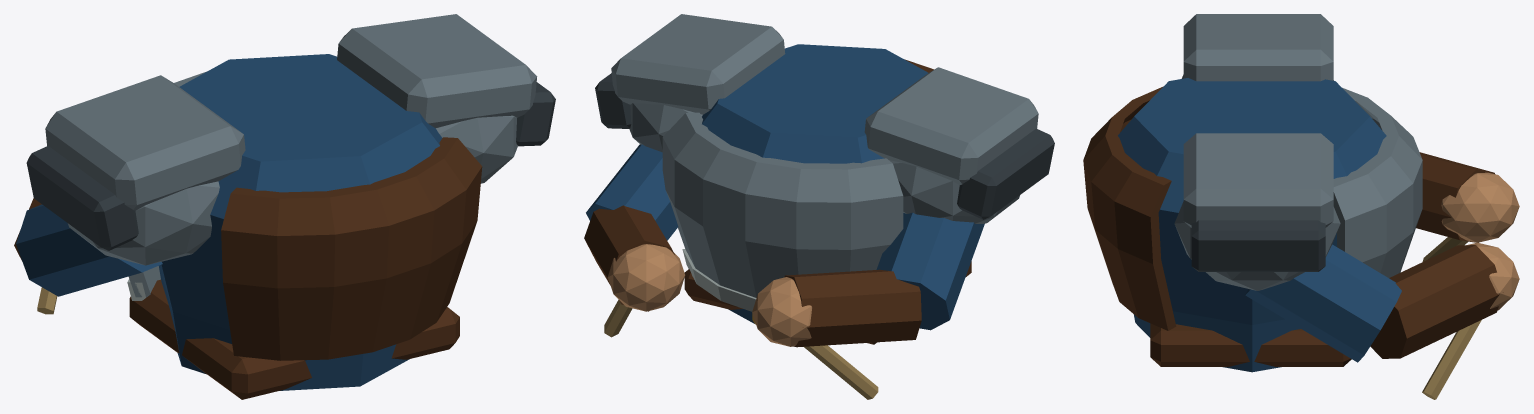
The model's file is Rider.glb.
3 renders of one model, left to right at view 1: azimuth 30°, elevation 25°; view 2: azimuth 150°, elevation 25°; view 3: azimuth 270°, elevation 25°, orthographic. The views are drawn at different scales.
Parts seen in each view (by area): view 1: Sculpture; view 2: Sculpture; view 3: Sculpture.
Part boxes in pixels (x1=…): Sculpture: x1=14, y1=14, x2=555, y2=399; Sculpture: x1=584, y1=14, x2=1054, y2=399; Sculpture: x1=1083, y1=14, x2=1519, y2=399.
Size of the model in its own units: 0.8904 by 0.5025 by 0.814.
